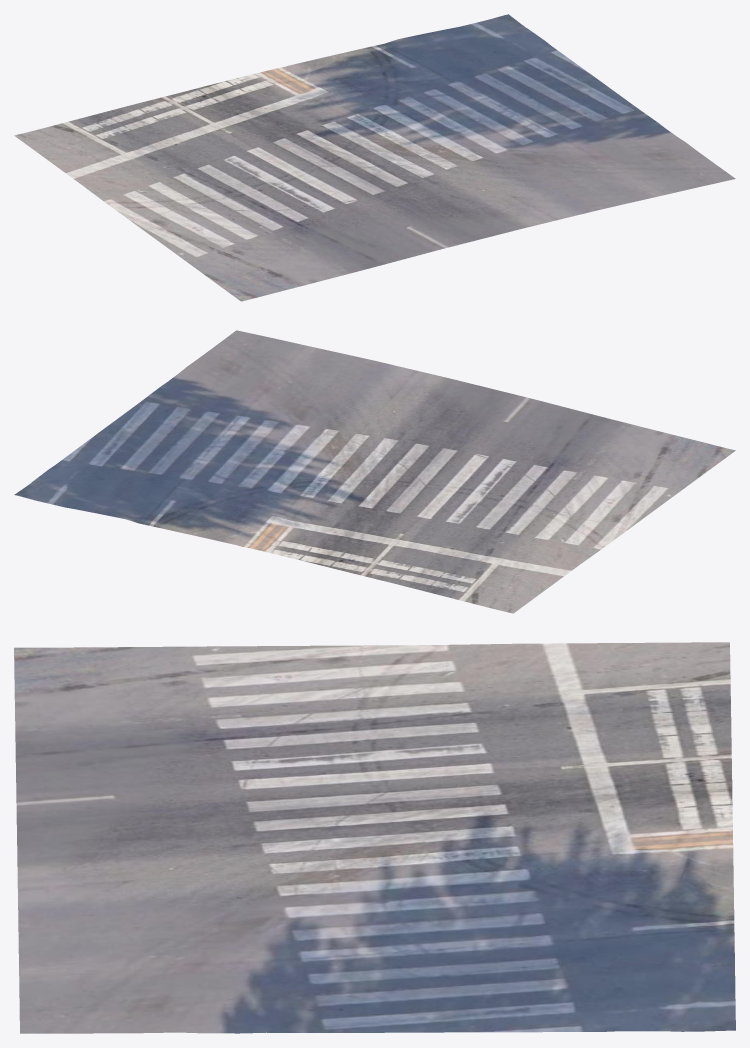
File: Tile_+006_+007_L21_000010t3.glb
3 renders of one model, top to bottom at view 1: azimuth 30°, elevation 25°; view 2: azimuth 150°, elevation 25°; view 3: azimuth 270°, elevation 25°, orthographic. The views are drawn at different scales.
Visible parts, largest first — view 1: rtc; view 2: rtc; view 3: rtc.
Part boxes in pixels (<box>): rtc: <box>14,14,735,301</box>; rtc: <box>14,330,735,613</box>; rtc: <box>14,642,735,1033</box>.
Size of the model in its own units: 17.85 by 0.2085 by 14.03.
Materials: 1 (1 with a texture image).
